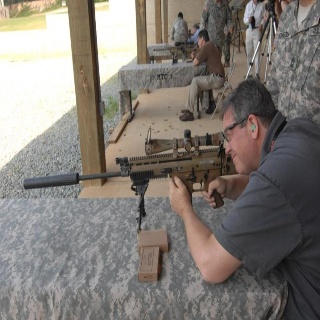rifle: (23, 126, 235, 230)
